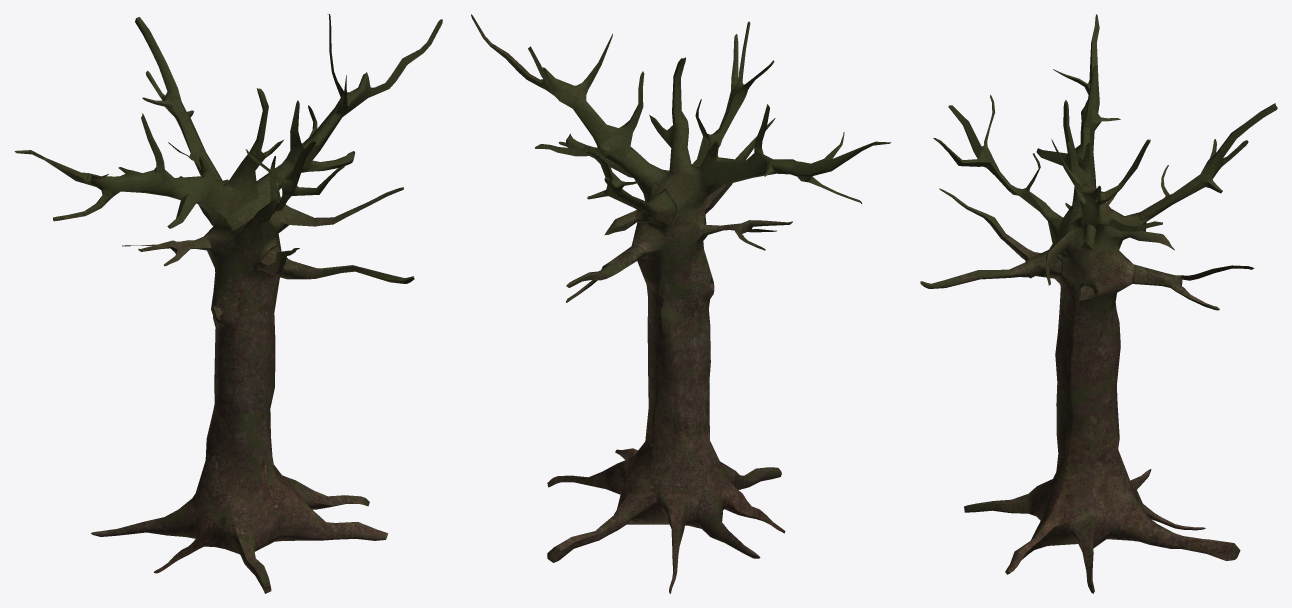
File: dead_tree.glb
3 renders of one model, left to right at view 1: azimuth 30°, elevation 25°; view 2: azimuth 150°, elevation 25°; view 3: azimuth 270°, elevation 25°, orthographic. The views are drawn at different scales.
Parts seen in each view (by area): view 1: Tree; view 2: Tree; view 3: Tree.
Part boxes in pixels (x1,y1,x2,y2): Tree: [14, 14, 442, 593]; Tree: [471, 14, 891, 593]; Tree: [920, 14, 1277, 593].
Bounding box in the file's own units: 0.9018 × 0.9938 × 0.6859.
1 material, 1 textured.
